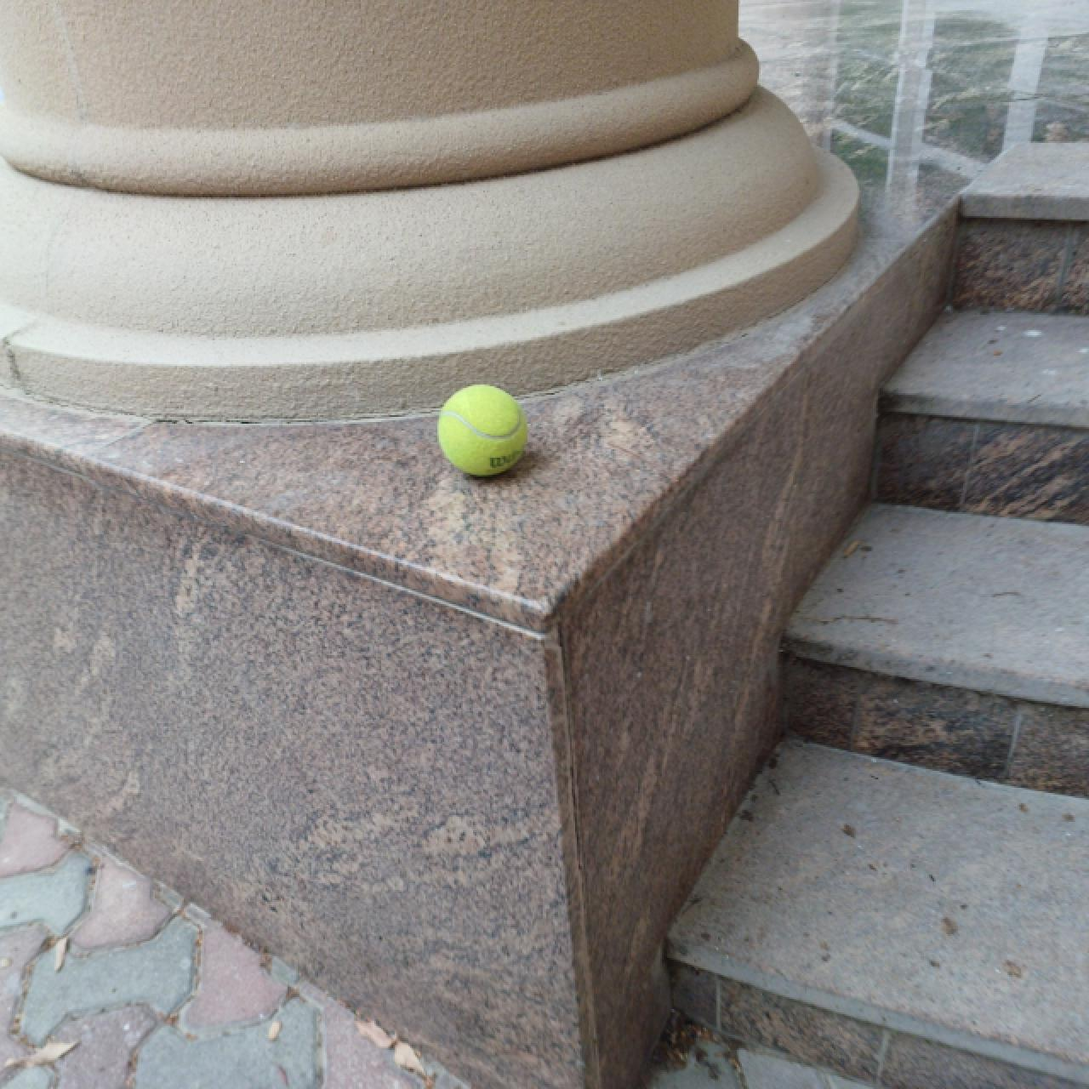tennis-ball: (438, 384, 529, 480)
